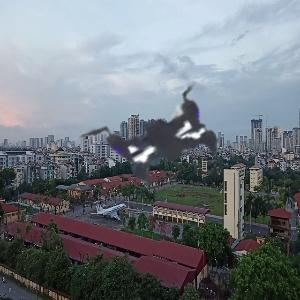drone: (31, 4, 291, 264)
